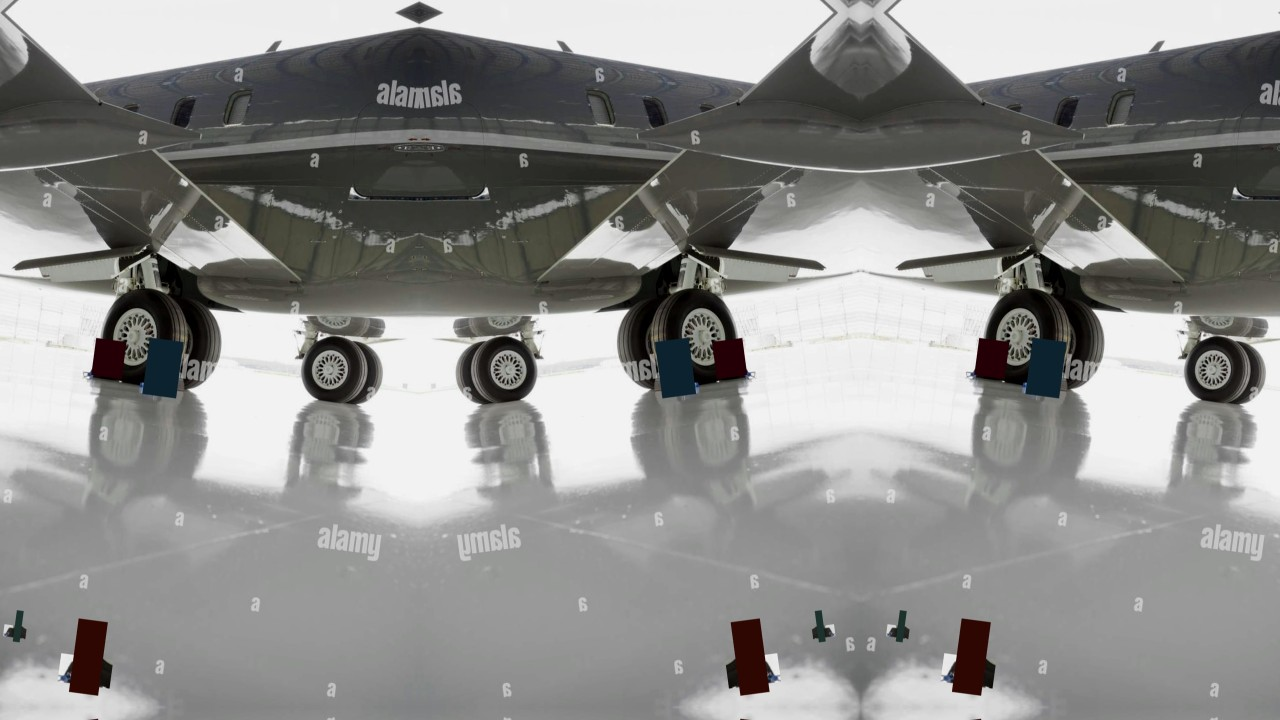chock: (57, 653, 113, 688), (725, 653, 781, 688), (941, 653, 997, 688), (141, 365, 190, 396), (648, 365, 697, 396), (1025, 365, 1074, 396), (85, 355, 128, 382), (710, 355, 753, 382), (969, 355, 1012, 382), (2, 624, 26, 639), (812, 624, 836, 639), (886, 624, 910, 639)
wheel: (94, 283, 189, 387), (649, 283, 744, 387), (978, 283, 1073, 387), (296, 331, 384, 407), (454, 331, 542, 407), (1180, 331, 1268, 407), (158, 297, 225, 392), (613, 297, 680, 392), (1042, 297, 1109, 392), (338, 340, 386, 405), (452, 340, 500, 405), (1222, 340, 1270, 405)
